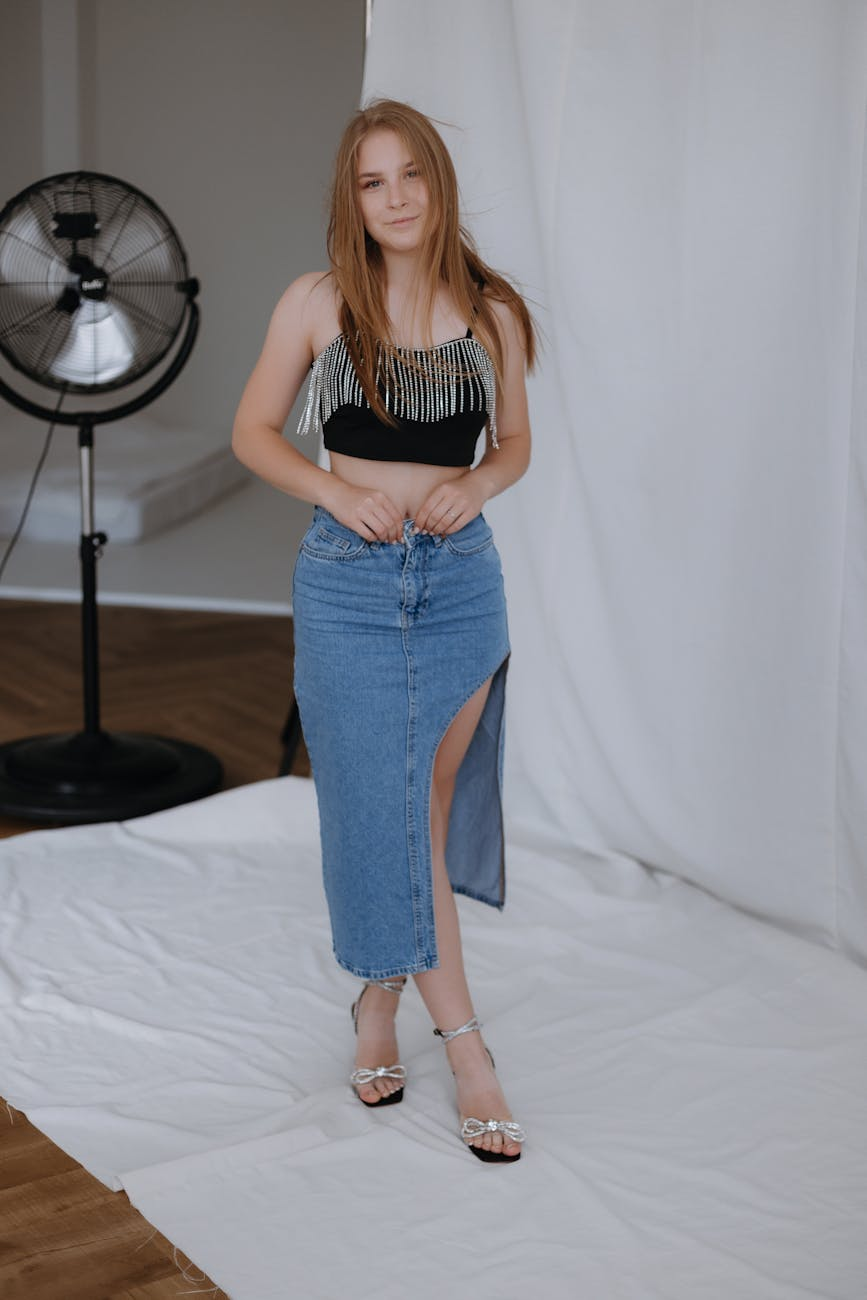crop_top: (301, 272, 509, 473)
opened_foot: (431, 1018, 529, 1160), (325, 973, 419, 1116)
